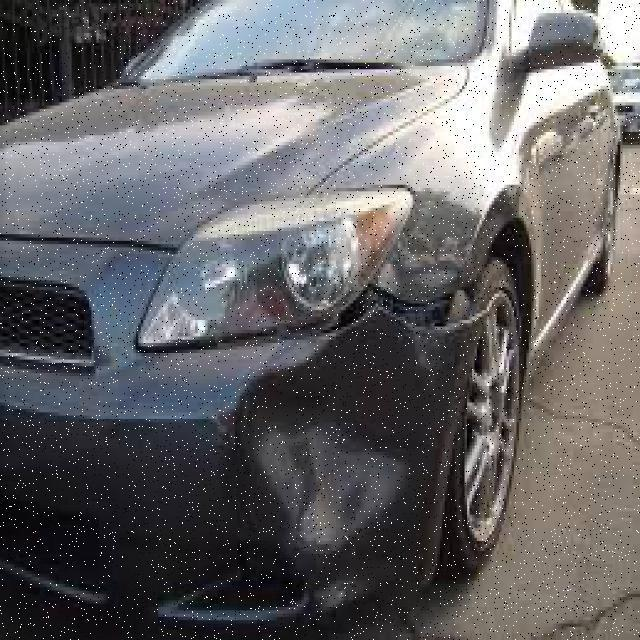front-bumper-dent: (138, 270, 502, 636)
